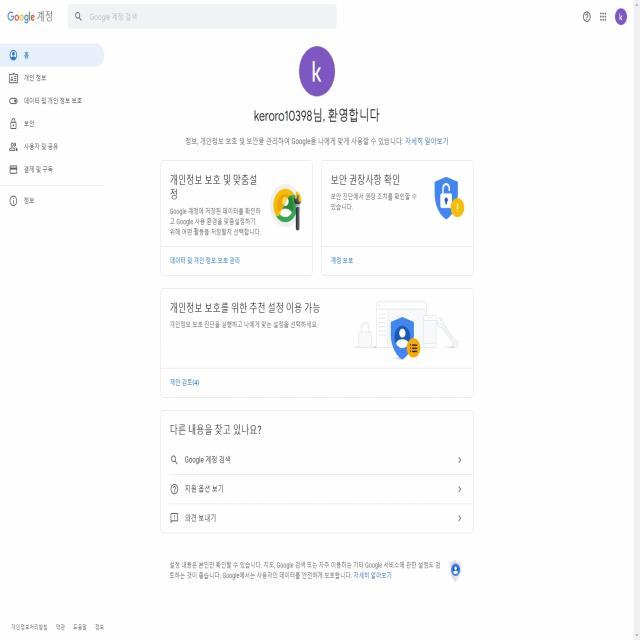menu-bar: (575, 1, 630, 30)
